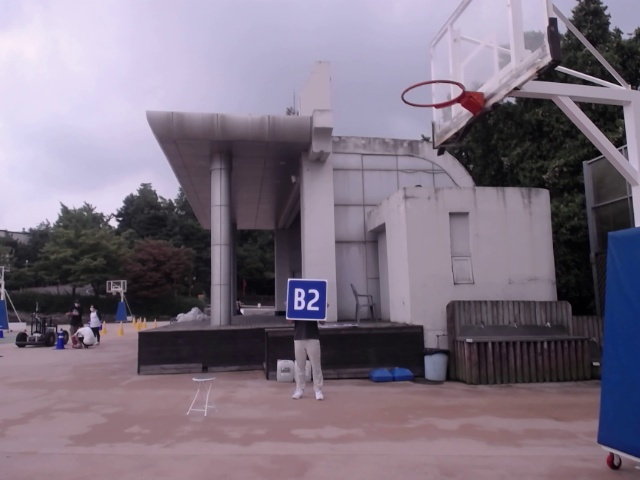delivery_b2: (288, 277, 327, 321)
